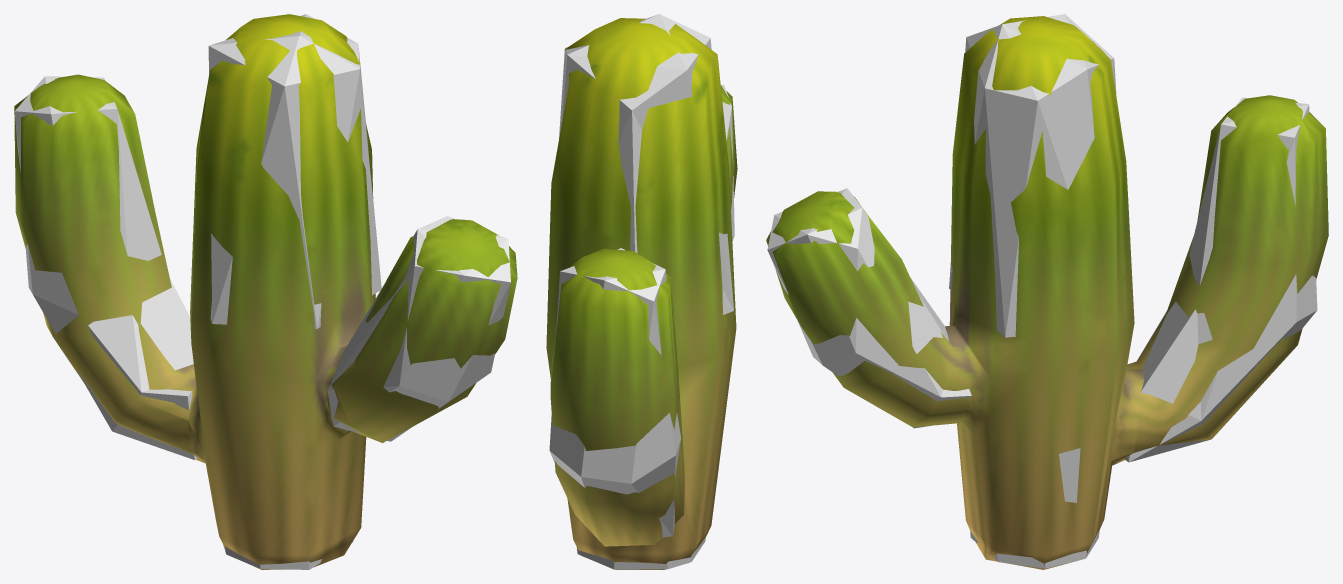
The model's file is Fractured_1.fbx.
The picture shows the model from 3 angles, left to right: view 1: azimuth 30°, elevation 25°; view 2: azimuth 150°, elevation 25°; view 3: azimuth 270°, elevation 25°; orthographic projection.
Parts seen in each view (by area): view 1: cactus_1_body_2, cactus_1_body_1, cactus_1_branch_1, cactus_1_branch_2, cactus_1_branch_1_cd, cactus_1_body_2_cd, cactus_1_branch_2_cd, cactus_1_body_1_cd; view 2: cactus_1_body_2, cactus_1_branch_1, cactus_1_body_1, cactus_1_branch_1_cd, cactus_1_body_2_cd, cactus_1_body_1_cd, cactus_1_branch_2, cactus_1_branch_2_cd; view 3: cactus_1_body_2, cactus_1_body_1, cactus_1_branch_1, cactus_1_branch_2, cactus_1_body_2_cd, cactus_1_branch_1_cd, cactus_1_branch_2_cd, cactus_1_body_1_cd.
Part boxes in pixels (box(x1,y1,x2,y2)): cactus_1_body_2: box(191, 14, 373, 330); cactus_1_body_1: box(188, 285, 375, 569); cactus_1_branch_1: box(14, 74, 200, 461); cactus_1_branch_2: box(323, 219, 517, 442); cactus_1_branch_1_cd: box(14, 76, 197, 459); cactus_1_body_2_cd: box(208, 14, 381, 328); cactus_1_branch_2_cd: box(327, 216, 510, 441); cactus_1_body_1_cd: box(223, 541, 353, 569); cactus_1_body_2: box(547, 18, 734, 338); cactus_1_branch_1: box(550, 248, 685, 546); cactus_1_body_1: box(546, 294, 736, 569); cactus_1_branch_1_cd: box(549, 248, 681, 537); cactus_1_body_2_cd: box(559, 14, 733, 314); cactus_1_body_1_cd: box(576, 537, 705, 569); cactus_1_branch_2: box(720, 85, 737, 208); cactus_1_branch_2_cd: box(721, 85, 734, 241); cactus_1_body_2: box(951, 16, 1133, 341); cactus_1_body_1: box(949, 290, 1138, 569); cactus_1_branch_1: box(1121, 95, 1328, 461); cactus_1_branch_2: box(766, 191, 972, 427); cactus_1_body_2_cd: box(949, 14, 1116, 337); cactus_1_branch_1_cd: box(1124, 97, 1317, 462); cactus_1_branch_2_cd: box(767, 188, 971, 428); cactus_1_body_1_cd: box(970, 448, 1099, 568).
Size of the model in its own units: 303 by 581 by 559.
